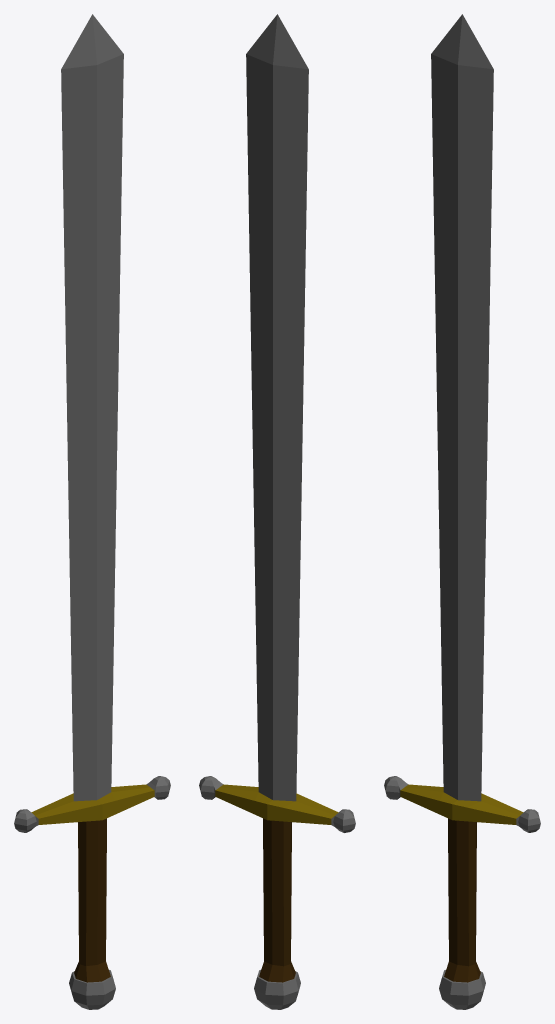
The model's file is DarkSwordExport.fbx.
The picture shows the model from 3 angles, left to right: view 1: azimuth 30°, elevation 25°; view 2: azimuth 150°, elevation 25°; view 3: azimuth 330°, elevation 25°; orthographic projection.
Visible parts, largest first — view 1: van.001; view 2: van.001; view 3: van.001.
Boxes of the visible parts, bbox=[...] form: van.001: bbox=[14, 14, 170, 1009]; van.001: bbox=[199, 14, 355, 1009]; van.001: bbox=[384, 14, 540, 1009].
Bounding box in the file's own units: 4.45 × 26.95 × 1.2.
